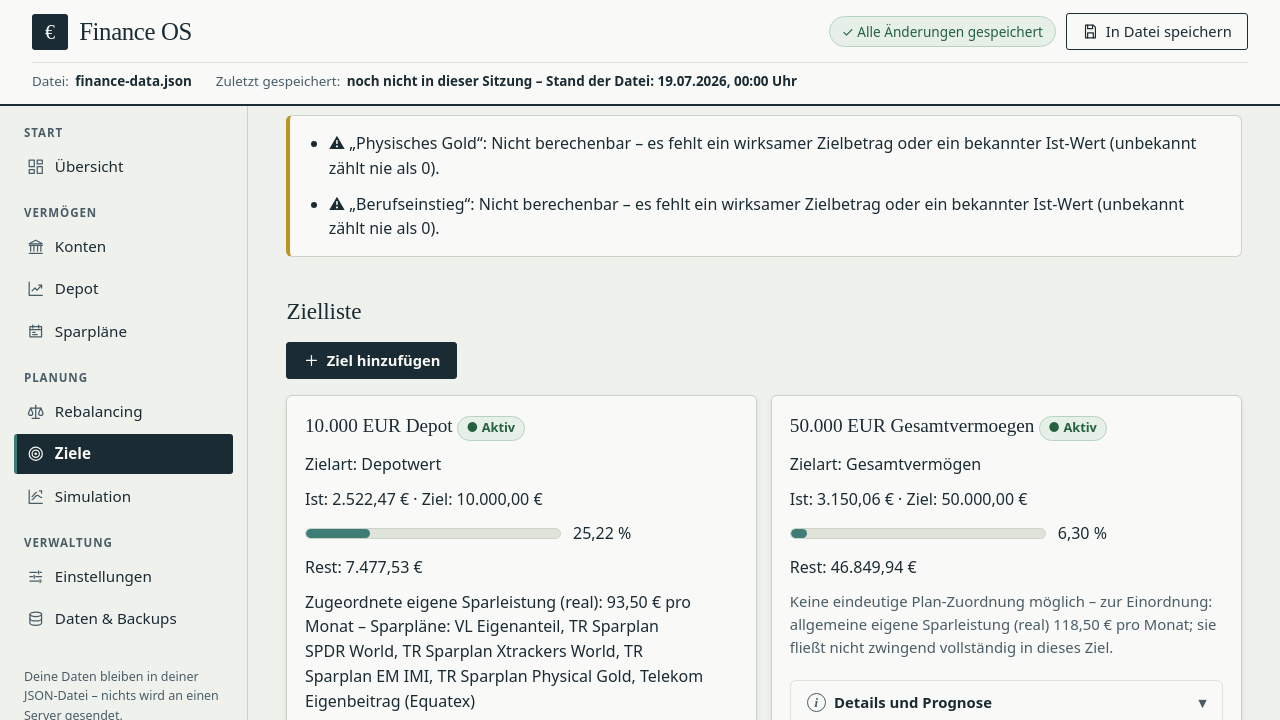
it: GoalsPage – Formulare › Kontostand-Ziel ohne Referenz: feldnaher Fehler an der Referenzauswahl
The width and height of the screenshot is (1280, 720).
(page scrolled)
Click the button "Ziel hinzufügen" at (372, 360), box [286,342,457,379]
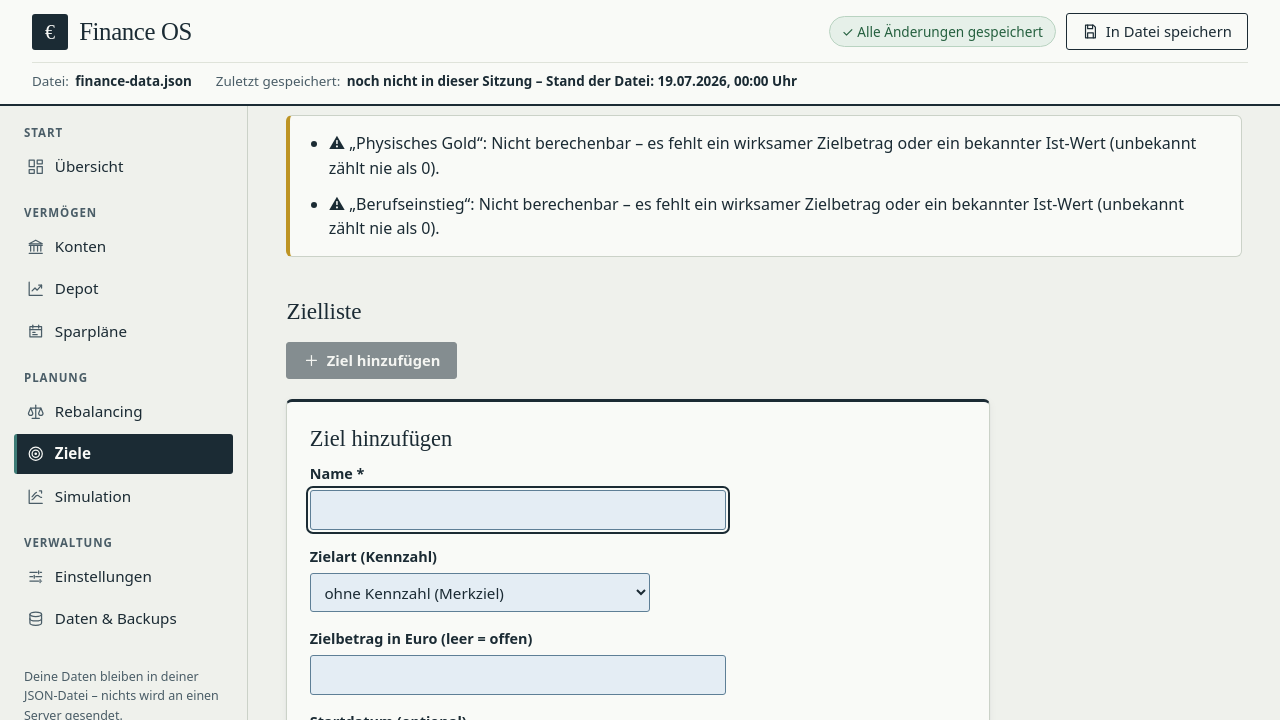
Type "Ohne Referenz" into the field labelled "Name *" at (518, 510), box [310,490,726,530]
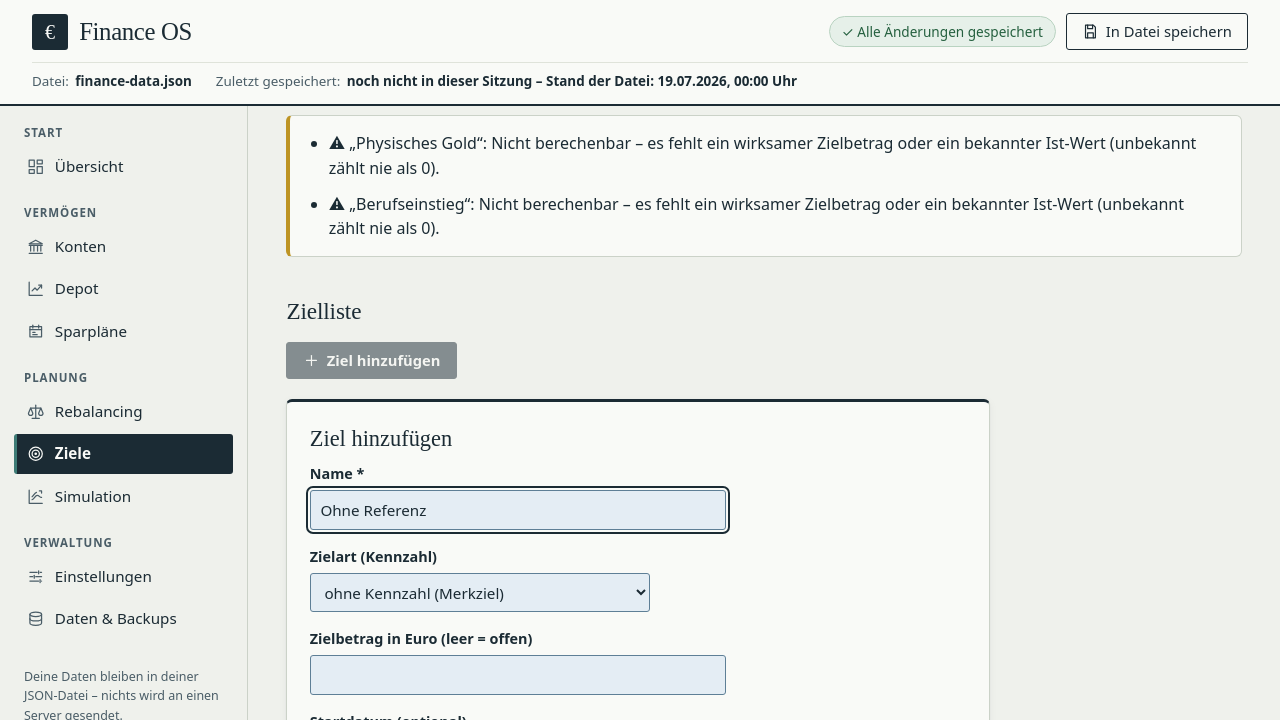
Select "Kontostand eines Kontos" in the dropdown labelled "Zielart (Kennzahl)" at (480, 593), box [310,573,650,612]
(page scrolled)
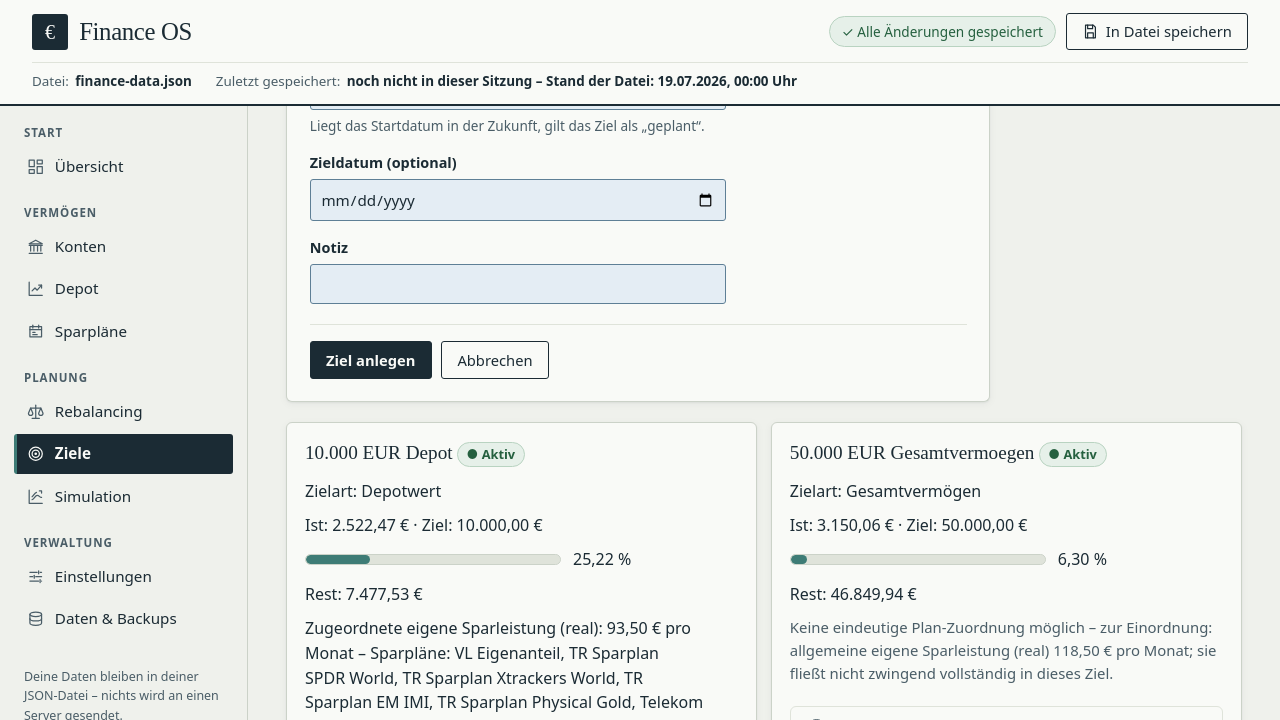
Click the button "Ziel anlegen" at (371, 360), box [310,341,432,379]
(page scrolled)
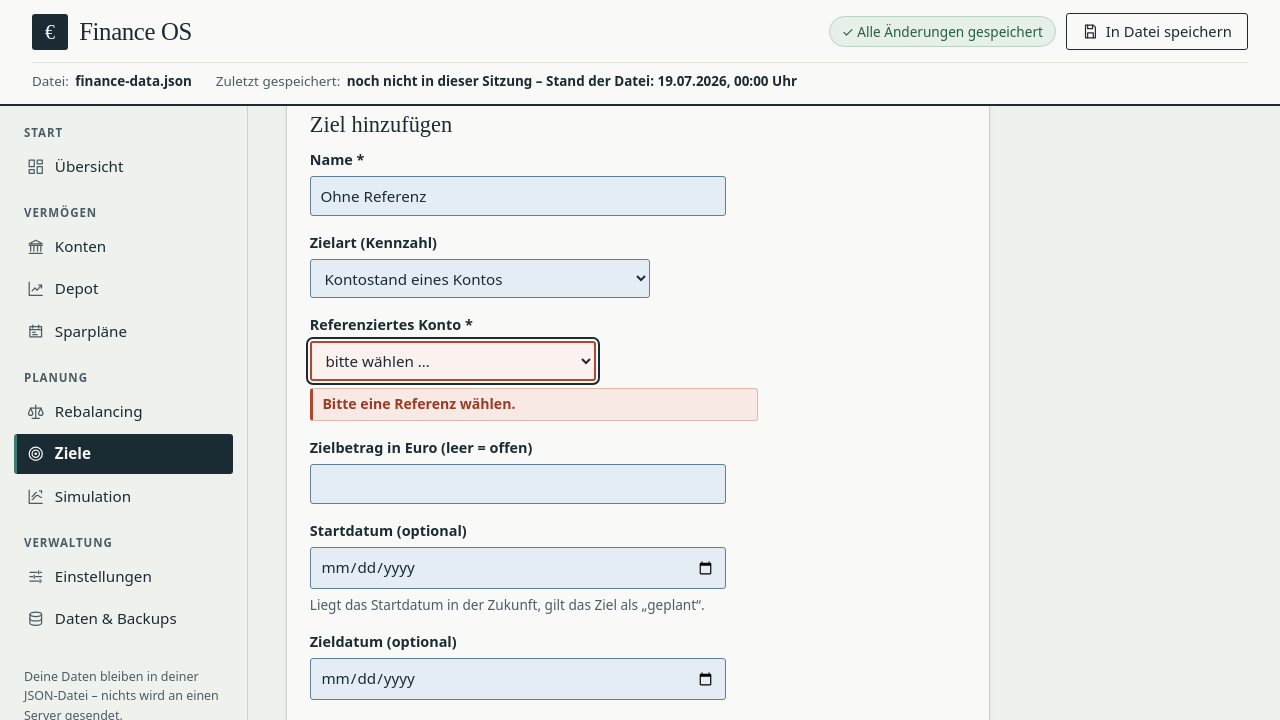
Expected: the text "Bitte eine Referenz wählen." is shown, [310,388,758,421]
